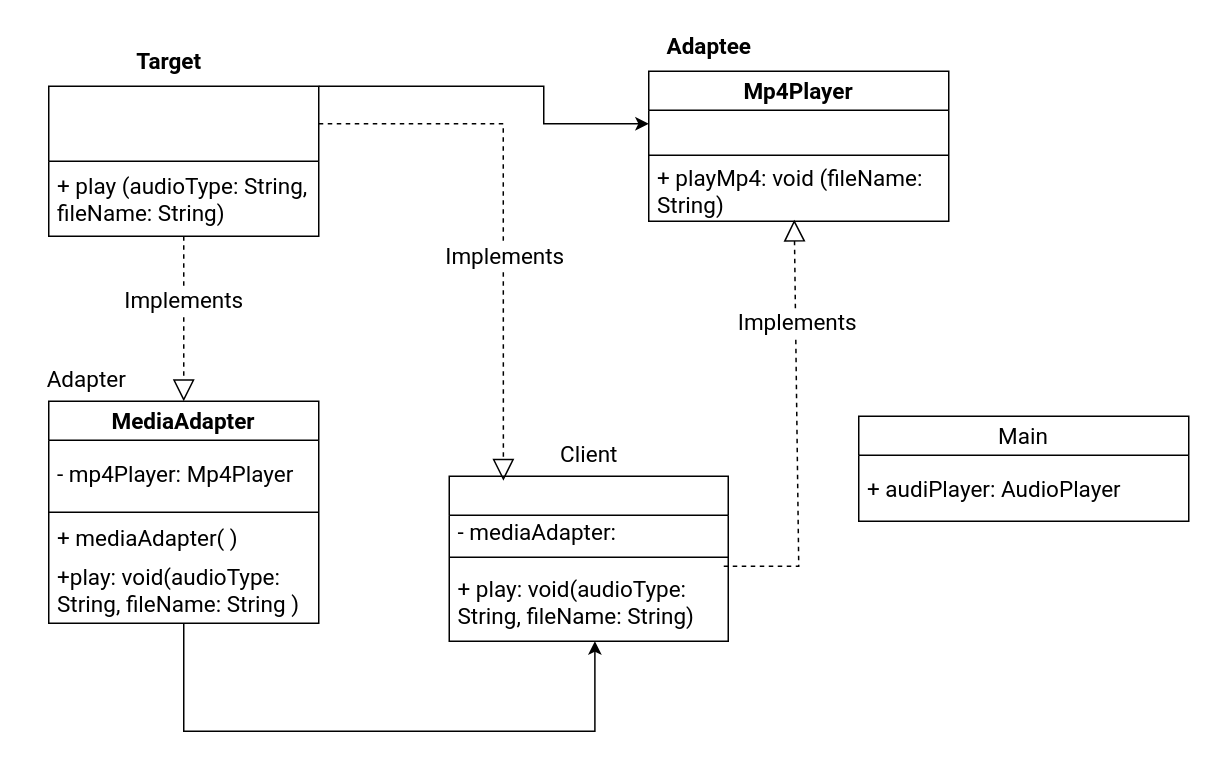
The diagram is 1215 pixels wide and 770 high, and some of its shapes have lost their labels. Each missing label, with the box of its shape:
<<Interface>> MediaPlayer: (47, 85, 319, 236)
AudioPlayer: (448, 475, 728, 641)
